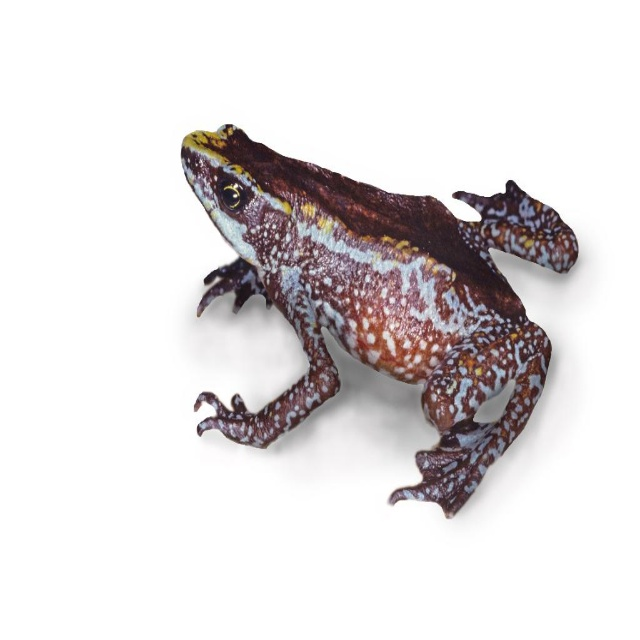Frog: (179, 119, 581, 519)
